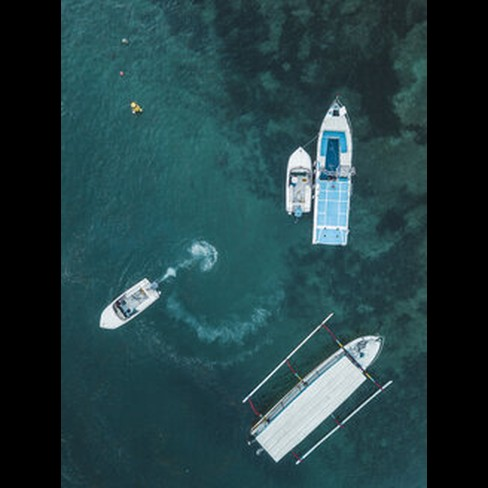boat: (233, 305, 399, 476), (310, 93, 361, 256), (90, 272, 166, 336), (279, 138, 313, 223)
